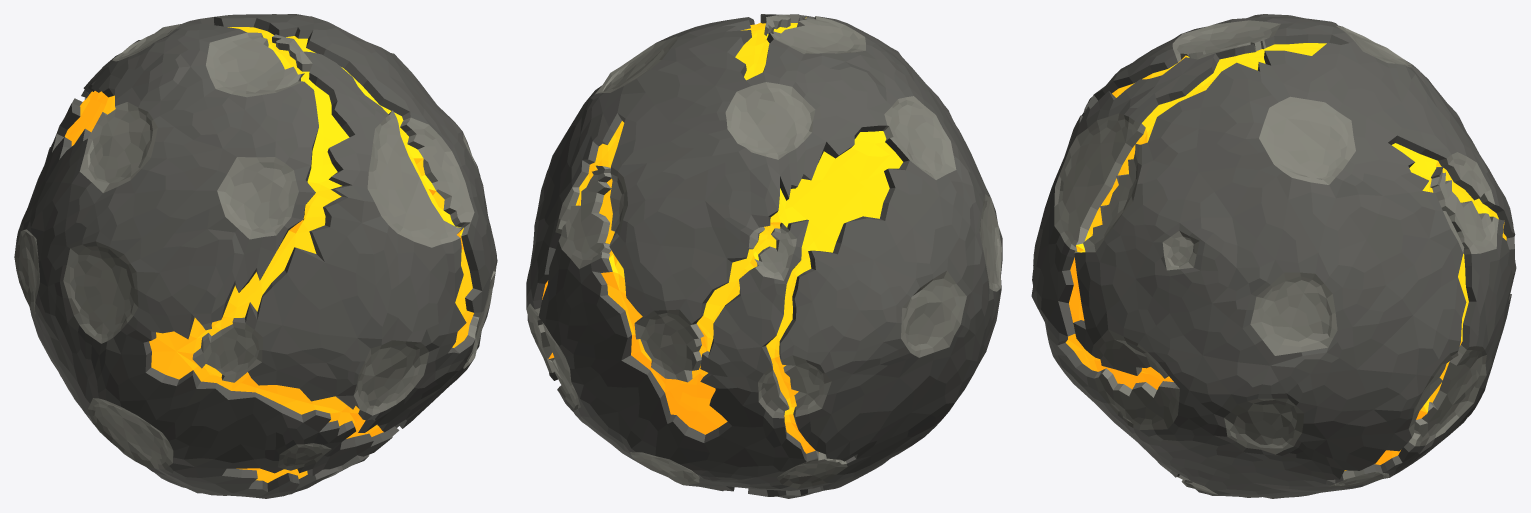
File: Asteroid_2_Model.fbx
The picture shows the model from 3 angles, left to right: view 1: azimuth 30°, elevation 25°; view 2: azimuth 150°, elevation 25°; view 3: azimuth 270°, elevation 25°; orthographic projection.
Parts seen in each view (by area): view 1: Asteroid_2; view 2: Asteroid_2; view 3: Asteroid_2.
Part boxes in pixels (<box>): Asteroid_2: <box>14,14,497,498</box>; Asteroid_2: <box>526,14,1002,498</box>; Asteroid_2: <box>1031,14,1516,498</box>.
Bounding box in the file's own units: 2.13 × 2.14 × 2.11.
